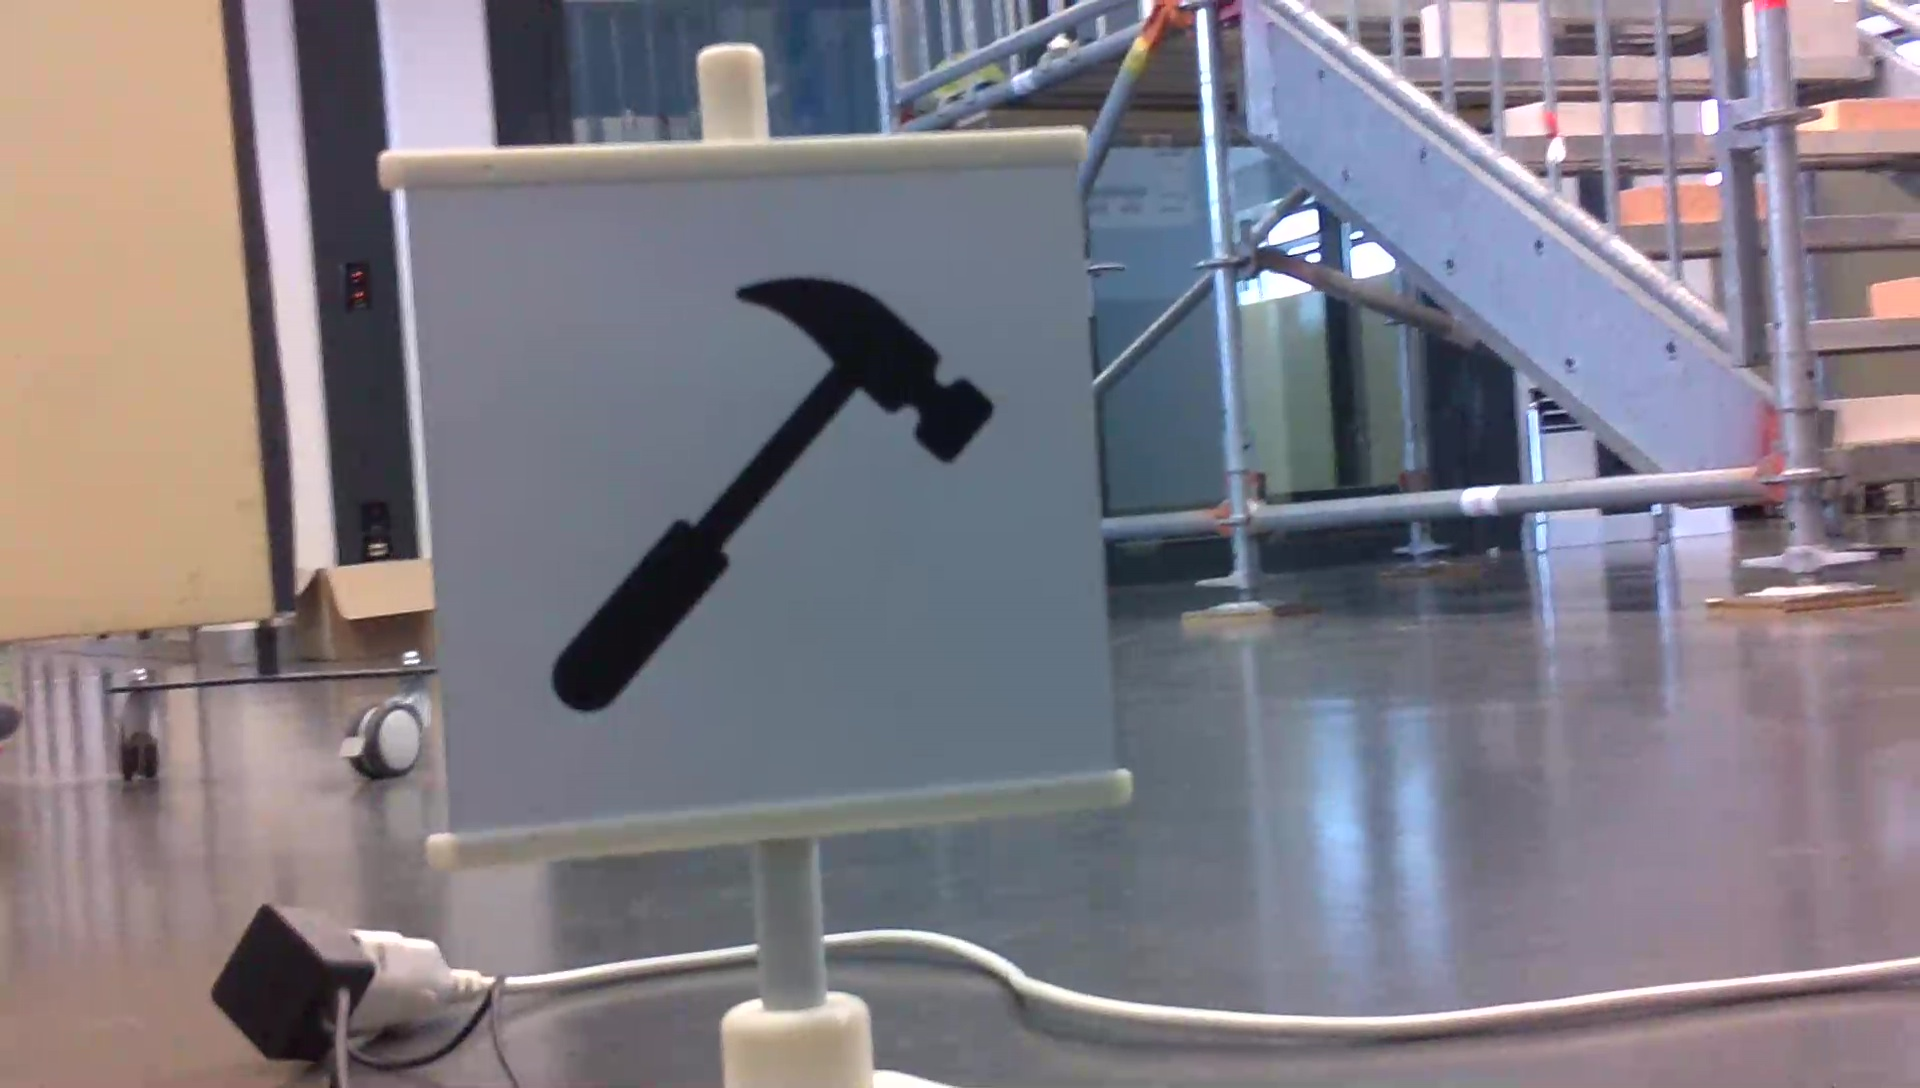brick: (1803, 98, 1920, 131), (1789, 3, 1855, 55), (1841, 396, 1920, 438), (1873, 276, 1920, 320)
hammer: (541, 266, 1005, 720)
